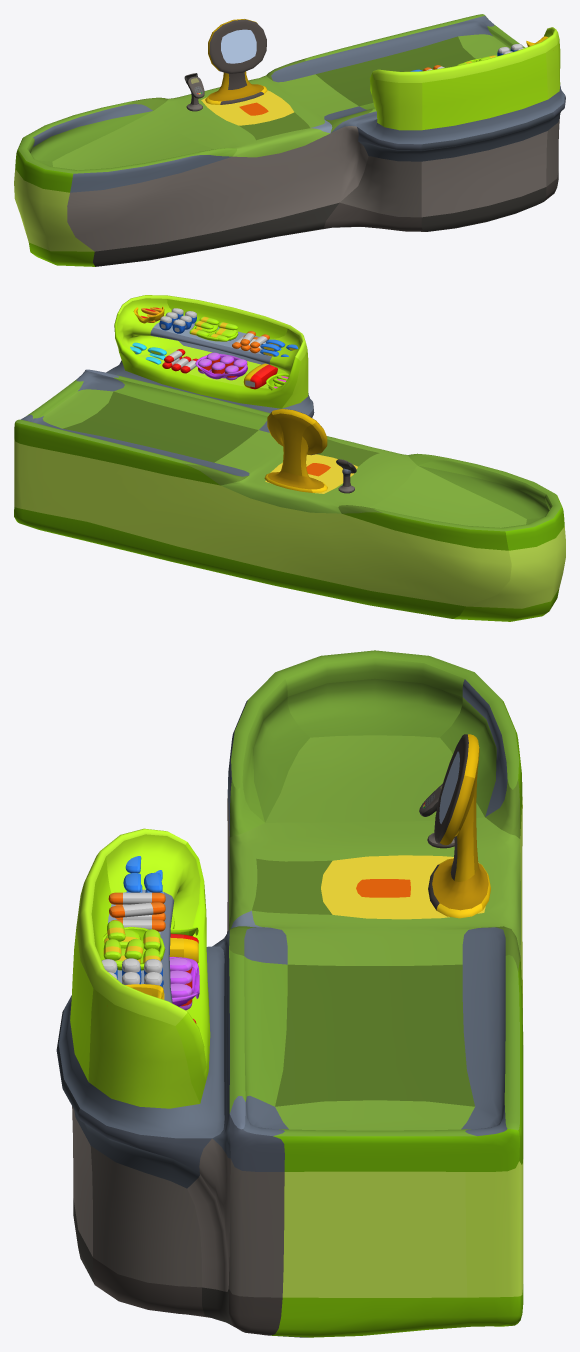
The model's file is SI_Prop_CheckoutCounter_01.fbx.
3 renders of one model, top to bottom at view 1: azimuth 30°, elevation 25°; view 2: azimuth 150°, elevation 25°; view 3: azimuth 270°, elevation 25°, orthographic. The views are drawn at different scales.
Visible parts, largest first — view 1: SI_Prop_CheckoutCounter_01; view 2: SI_Prop_CheckoutCounter_01; view 3: SI_Prop_CheckoutCounter_01.
Boxes of the visible parts, x1,y1,x2,y2 form: SI_Prop_CheckoutCounter_01: (14, 14, 565, 266); SI_Prop_CheckoutCounter_01: (14, 295, 565, 621); SI_Prop_CheckoutCounter_01: (56, 650, 523, 1337).
Bounding box in the file's own units: 774 × 256 × 315.
